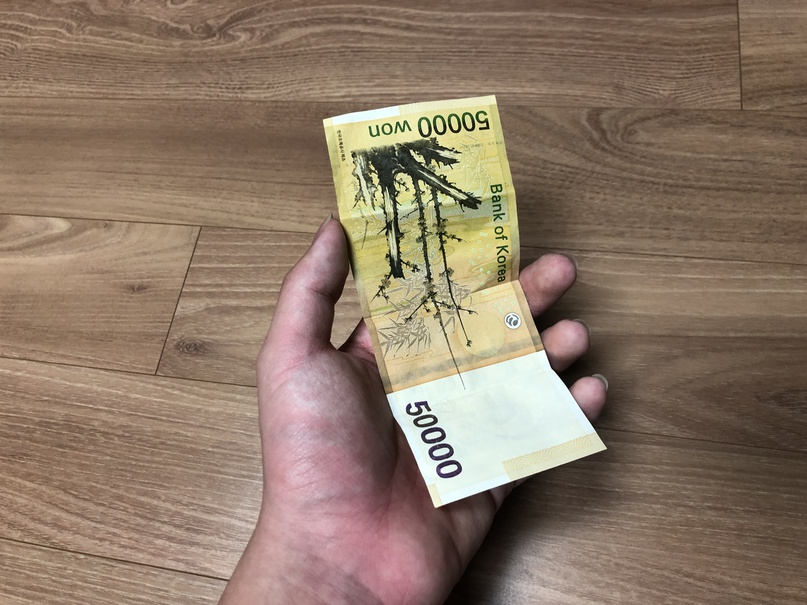50000won: (323, 94, 607, 509)
